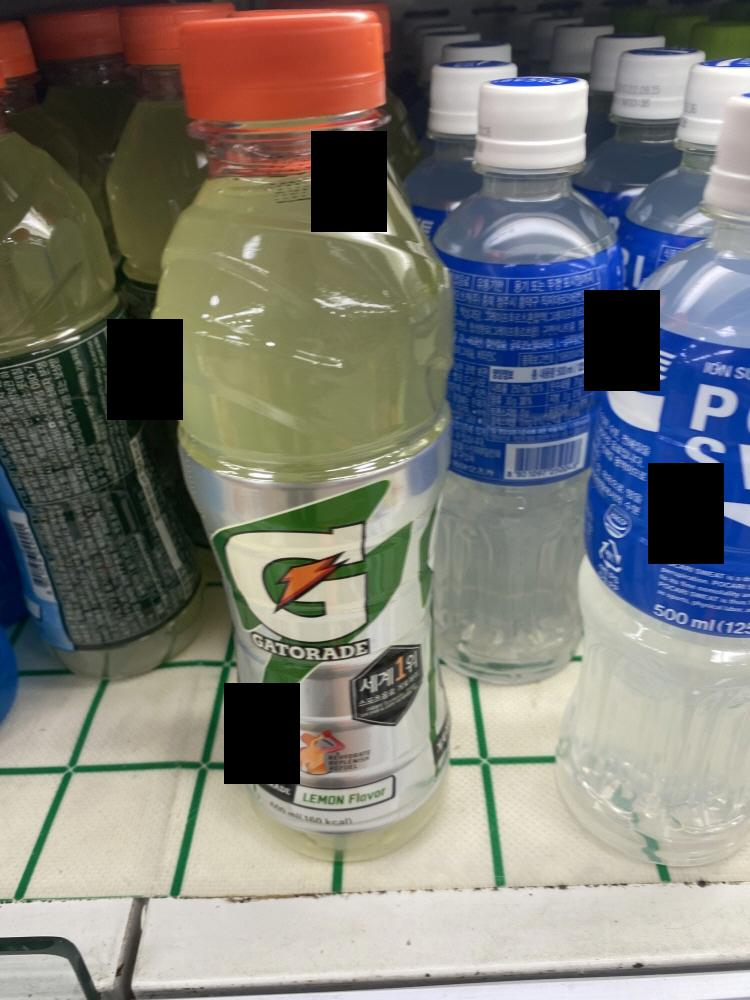gatorade_lemon: (128, 10, 486, 855)
